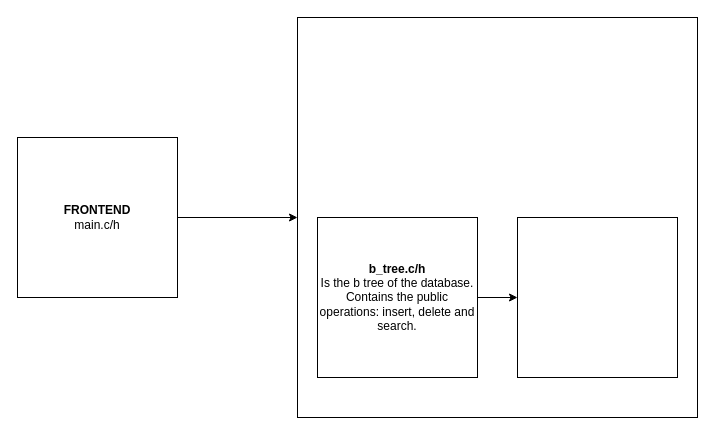
This 715x435 diagram has some shape labels left out. Each missing label, with the box of its shape:
BACKEND b_tree.c/h disk_operation.c/h: (296, 16, 698, 418)
disk_operation.c/h Contains the public operations: write and read of the disk: (516, 216, 678, 378)
